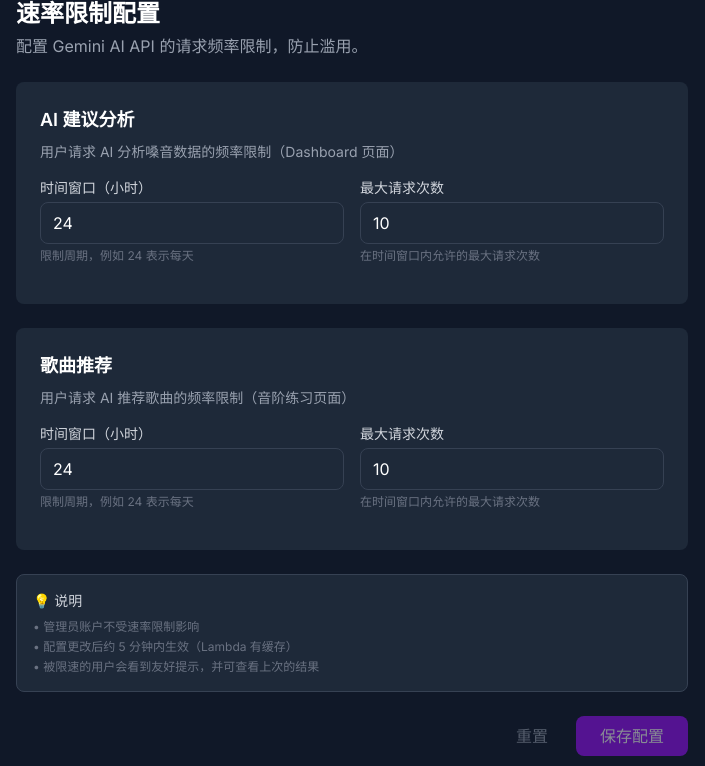
RateLimitConfigPage 组件测试 › 交互功能 › 部分失败且核对失败时锁定表单，核对成功后恢复失败编辑
Replace the text in the number field labelled "时间窗口（小时）" below "用户请求 AI 分析嗓音数据的频率限制（Dashboard 页面）" with "48" at [192, 223], box [40,202,344,244]
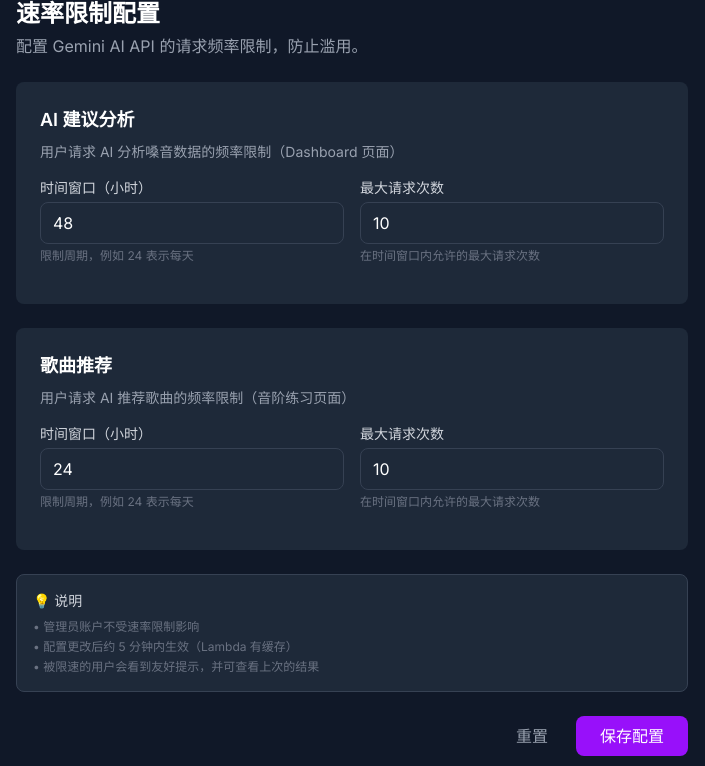
Replace the text in the number field labelled "最大请求次数" below "用户请求 AI 分析嗓音数据的频率限制（Dashboard 页面）" with "20" at [512, 223], box [360,202,664,244]
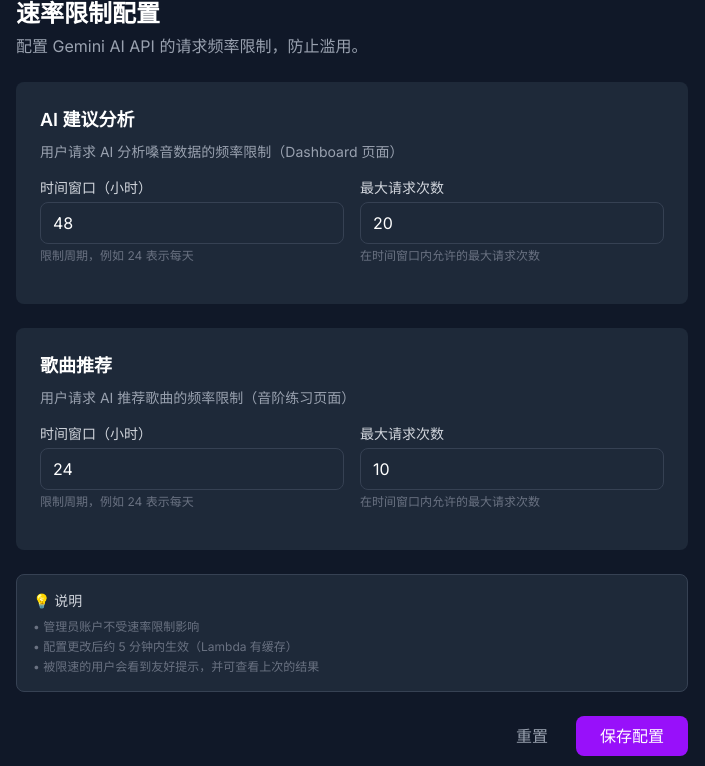
Click the button "保存配置".
click(632, 736)  # box [576,716,688,756]
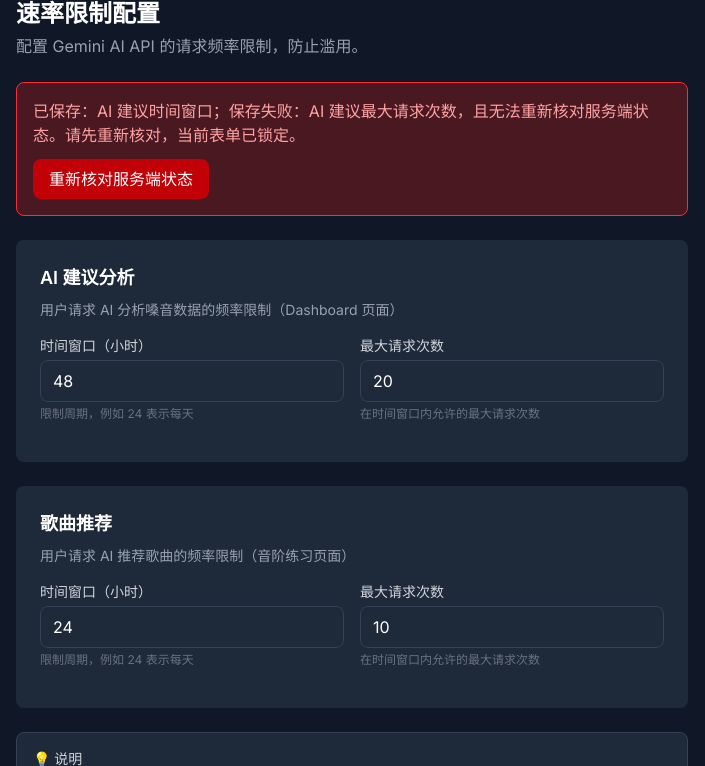
Result: the text "无法重新核对服务端状态" is shown at [33,101,649,145]
Click the button "重新核对服务端状态".
click(121, 179)  # box [33,159,209,199]
(page scrolled)
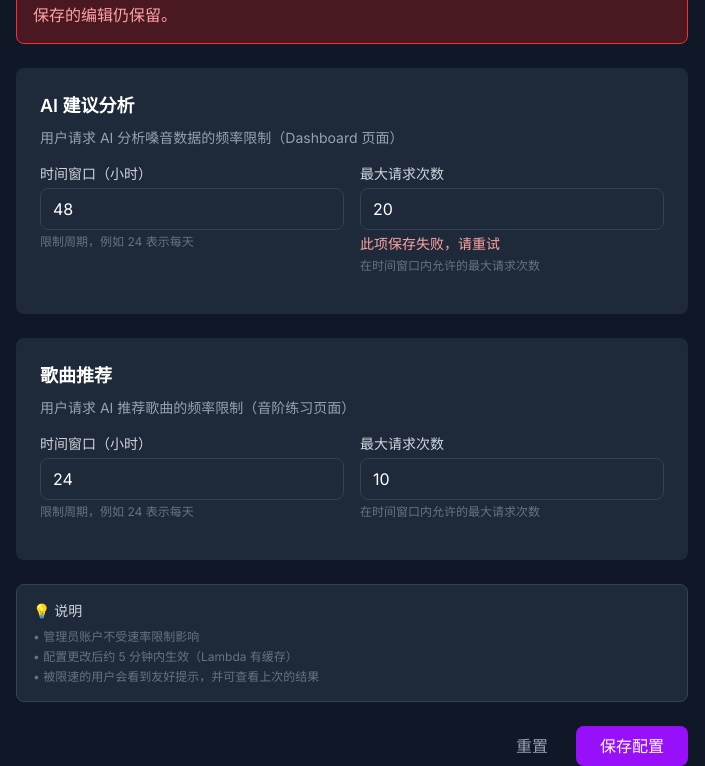
Click the button "重置".
click(532, 746)  # box [500,726,564,765]
(page scrolled)
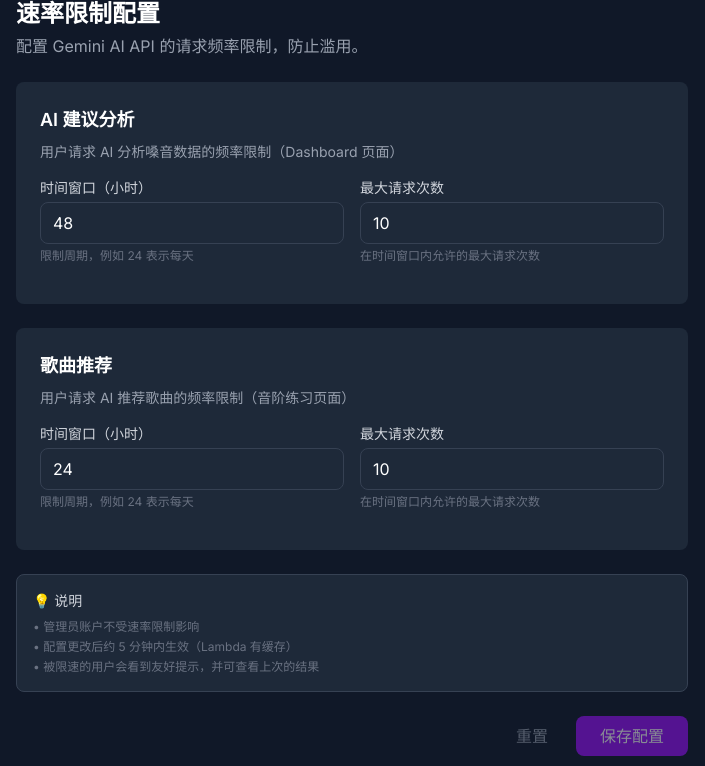
Result: the number field labelled "最大请求次数" below "用户请求 AI 分析嗓音数据的频率限制（Dashboard 页面）" holds "10" at [360,202,664,244]
